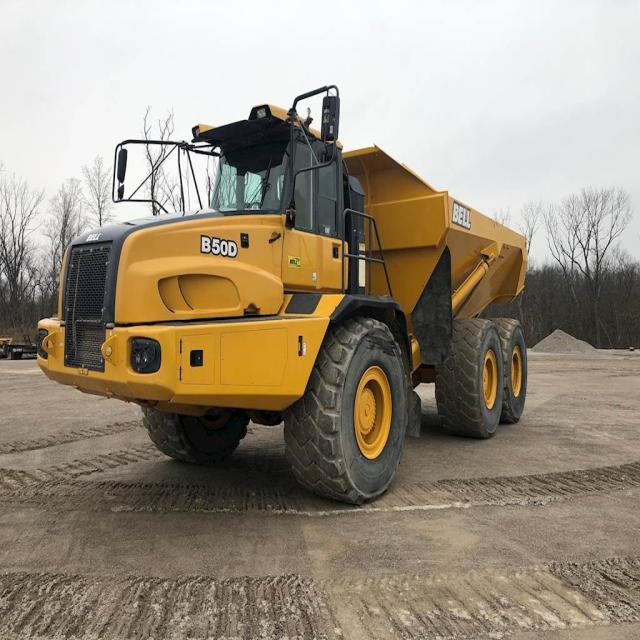dump_truck: (31, 91, 548, 508)
